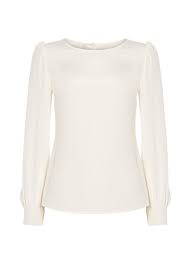S_blouse: (8, 29, 180, 227)
